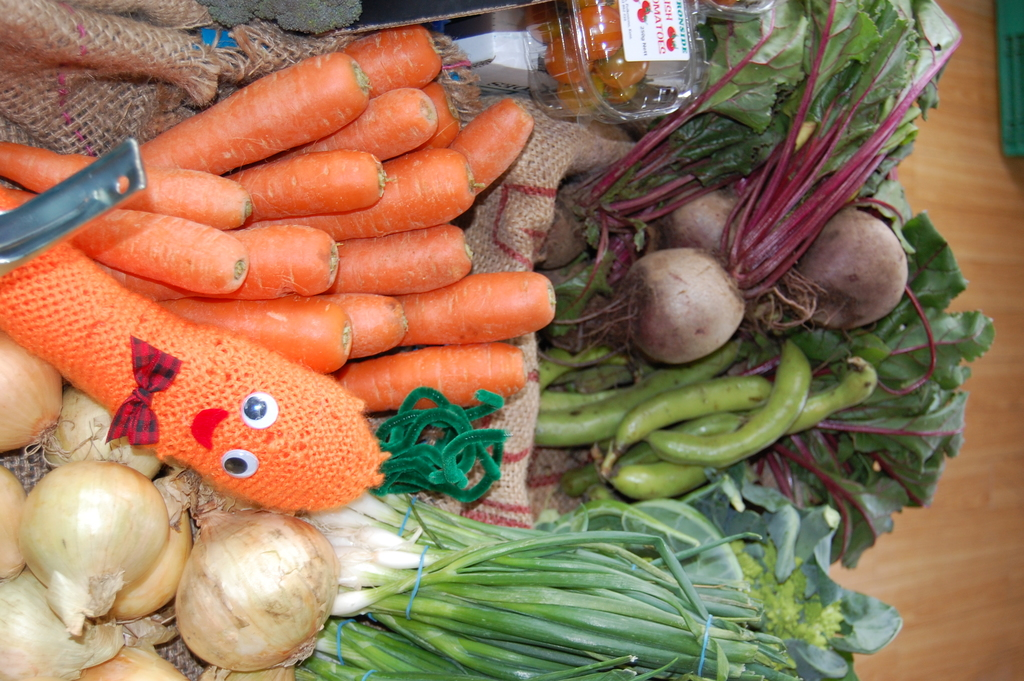Carrot: (0, 25, 555, 512)
